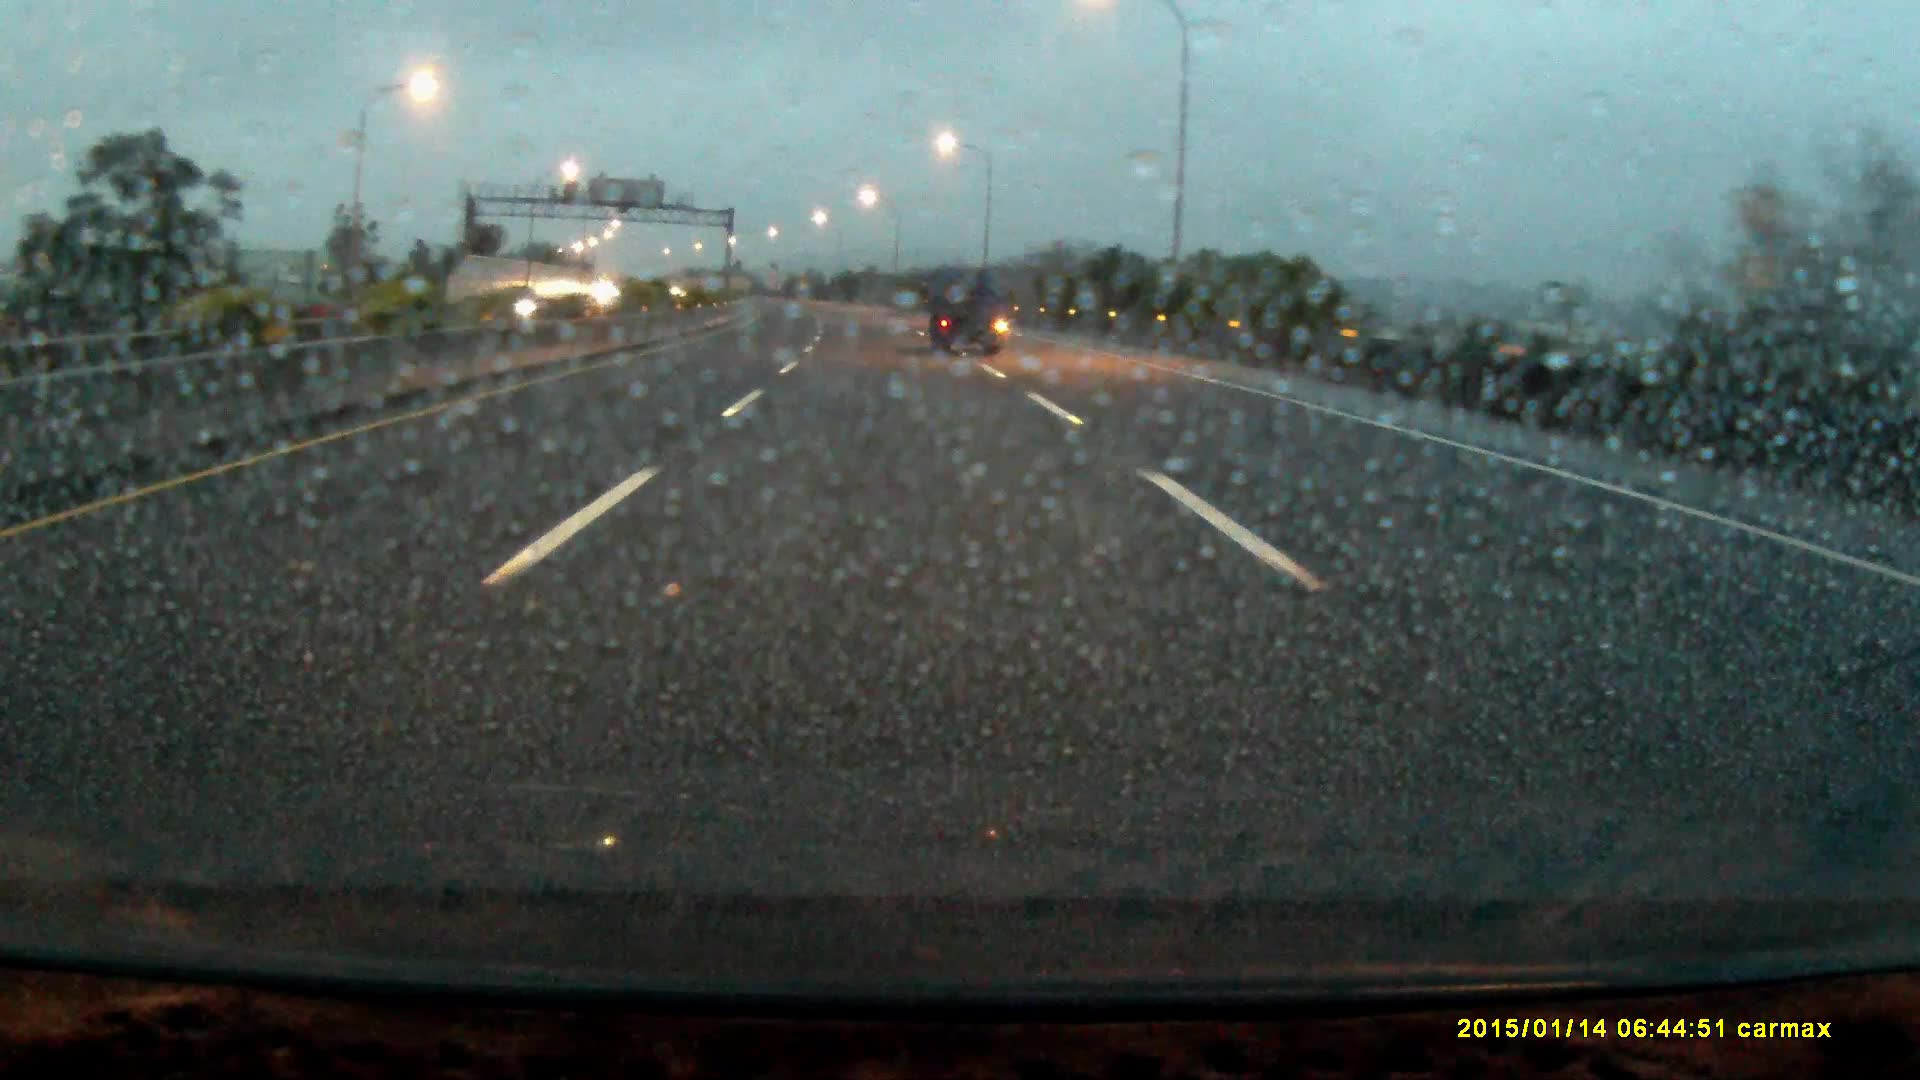vehicle: (927, 272, 1010, 357)
